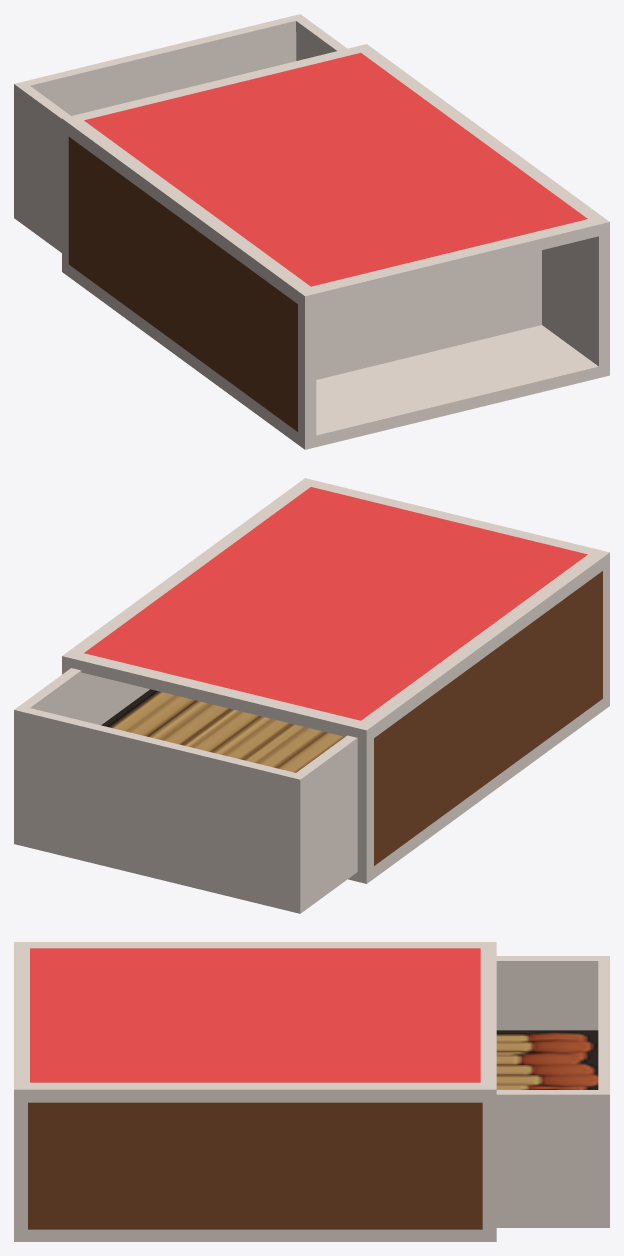
Rendered from Matchbox.fbx.
The picture shows the model from 3 angles, top to bottom: view 1: azimuth 30°, elevation 25°; view 2: azimuth 150°, elevation 25°; view 3: azimuth 270°, elevation 25°; orthographic projection.
Visible parts, largest first — view 1: MatchBox; view 2: MatchBox; view 3: MatchBox.
Boxes of the visible parts, box(x1,y1,x2,y2) form: MatchBox: box(14, 14, 609, 449); MatchBox: box(14, 478, 609, 913); MatchBox: box(14, 942, 609, 1241).
Bounding box in the file's own units: 1.1 × 0.3124 × 0.6492.
